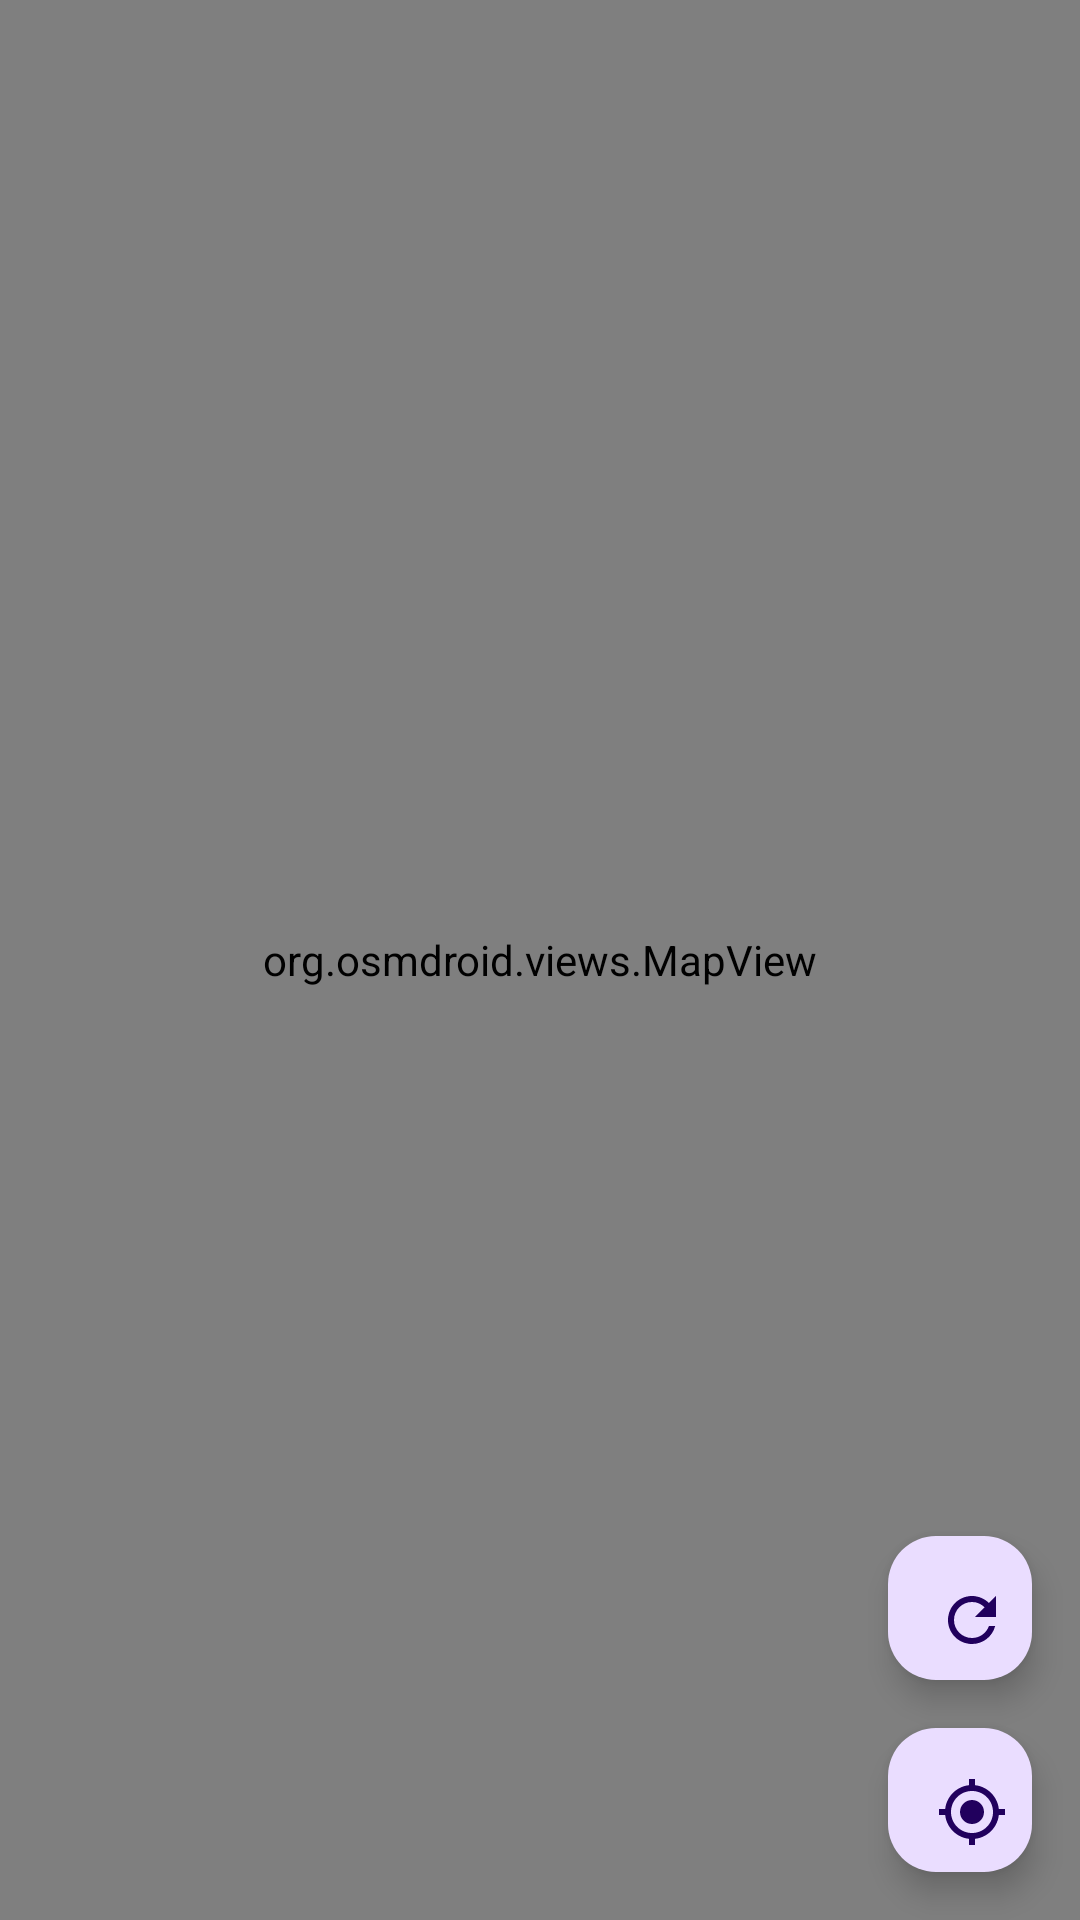

Point at icon controls on the screen. Image size 1080px x 1920px, points as (x,y).
Centre the map on my location: (960,1800)
Refresh landmarks: (960,1608)
